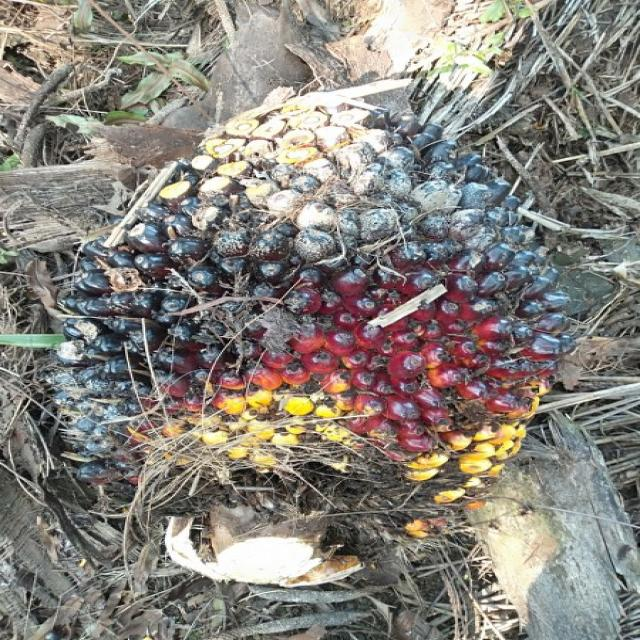fraksi 00: (18, 46, 640, 614)
